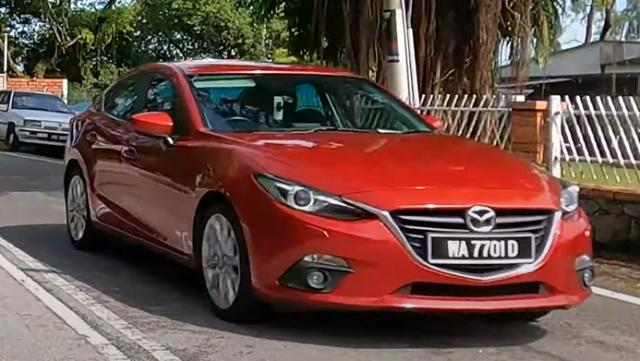License_Plate: (426, 232, 536, 266)
car: (64, 59, 597, 324), (1, 90, 77, 152)
